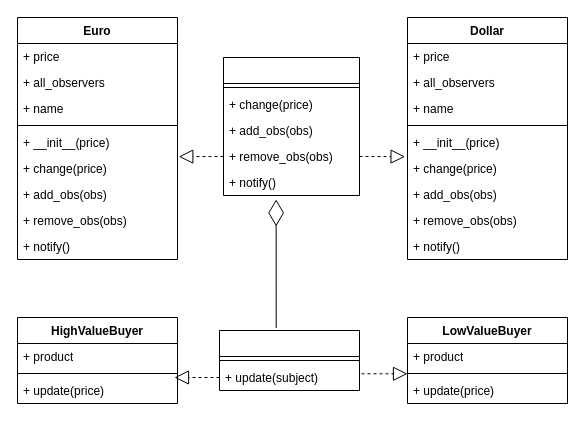
Some shapes in this 585 by 424 pixel diagram are drawn without their labels. The box of each missing label's shape, as (x1, y1, x2, y2) in pixels:
ObserverInterface: (218, 330, 360, 390)
ValueInterface: (222, 56, 360, 196)
